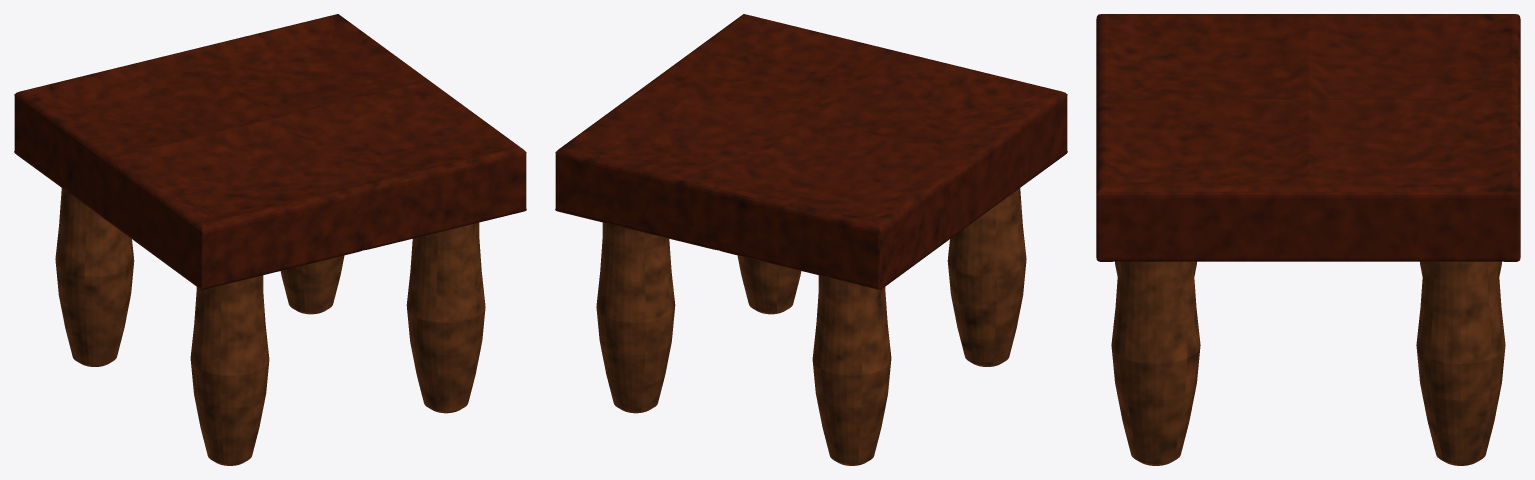
File: Stool.fbx
3 renders of one model, left to right at view 1: azimuth 30°, elevation 25°; view 2: azimuth 150°, elevation 25°; view 3: azimuth 270°, elevation 25°, orthographic. The views are drawn at different scales.
Parts seen in each view (by area): view 1: Cube; view 2: Cube; view 3: Cube.
Boxes of the visible parts, left/top/right/bottom form: Cube: left=14, top=14, right=526, bottom=465; Cube: left=555, top=14, right=1067, bottom=465; Cube: left=1096, top=14, right=1520, bottom=465.
Bounding box in the file's own units: 433 × 337 × 433.
Materials: 1 (1 with a texture image).
